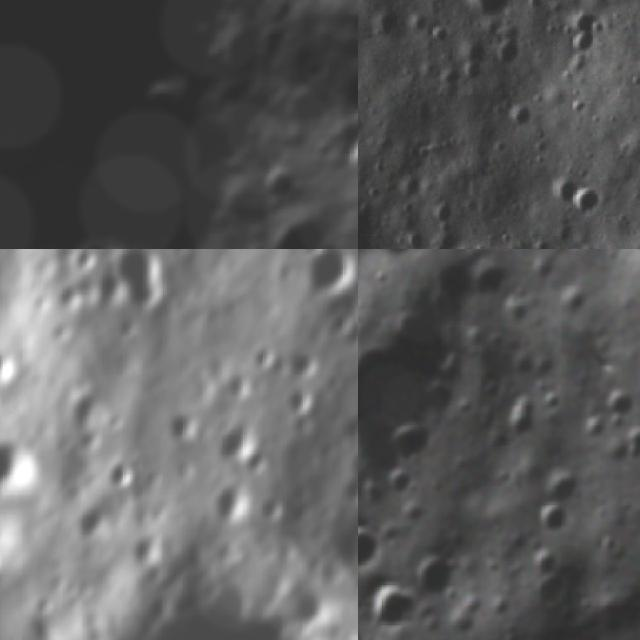crater: (358, 271, 507, 494), (78, 562, 334, 640), (376, 404, 456, 486), (272, 70, 344, 142), (358, 576, 429, 640), (247, 199, 336, 249), (524, 554, 587, 623), (522, 495, 589, 558), (103, 249, 166, 312), (538, 453, 596, 520), (488, 393, 548, 455), (407, 550, 465, 612), (251, 150, 309, 208), (295, 249, 358, 294), (217, 412, 265, 462), (0, 429, 36, 494), (211, 476, 254, 527), (358, 520, 391, 586), (457, 0, 531, 29), (361, 249, 432, 278), (333, 118, 358, 199), (569, 176, 604, 222), (290, 582, 326, 624), (70, 501, 109, 537), (100, 451, 136, 490), (288, 340, 325, 377), (162, 409, 197, 445), (258, 492, 288, 528), (284, 383, 318, 414), (0, 344, 20, 390), (248, 342, 280, 369), (65, 249, 96, 275), (338, 476, 358, 507), (345, 443, 358, 480)
